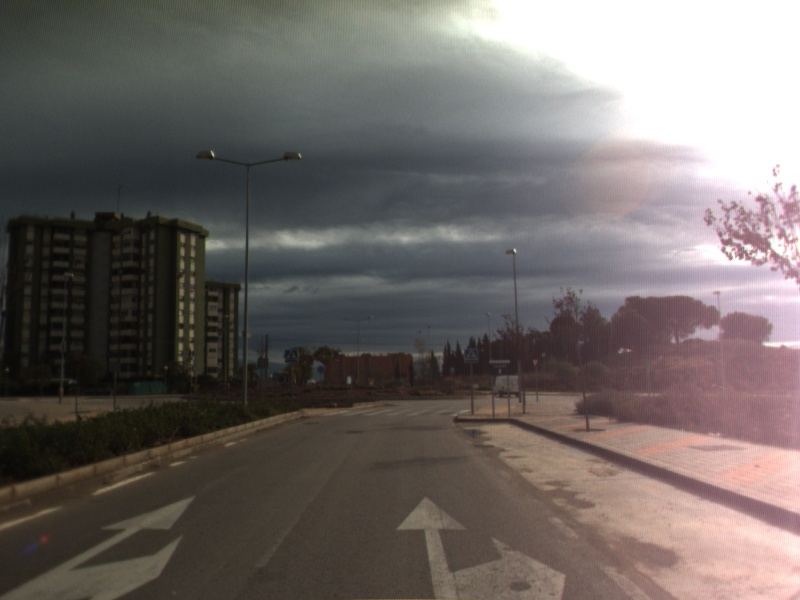STRAIGHT_RIGHT: (1, 491, 200, 600), (393, 493, 568, 600)
